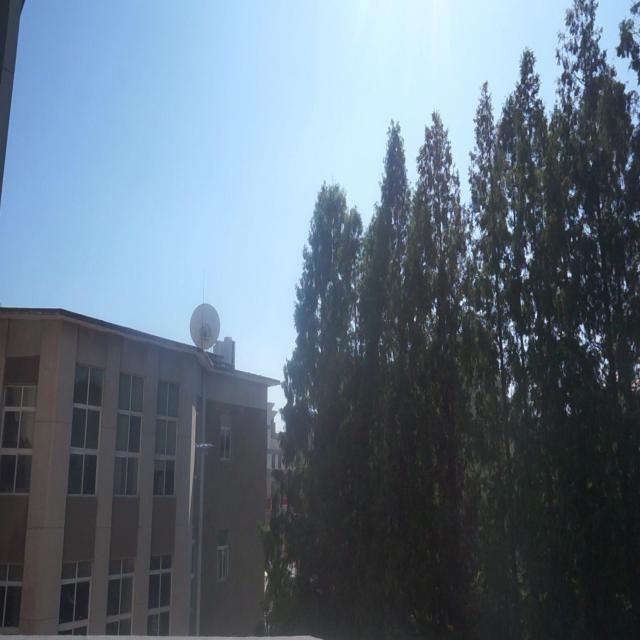UAV: (196, 442, 214, 455)
